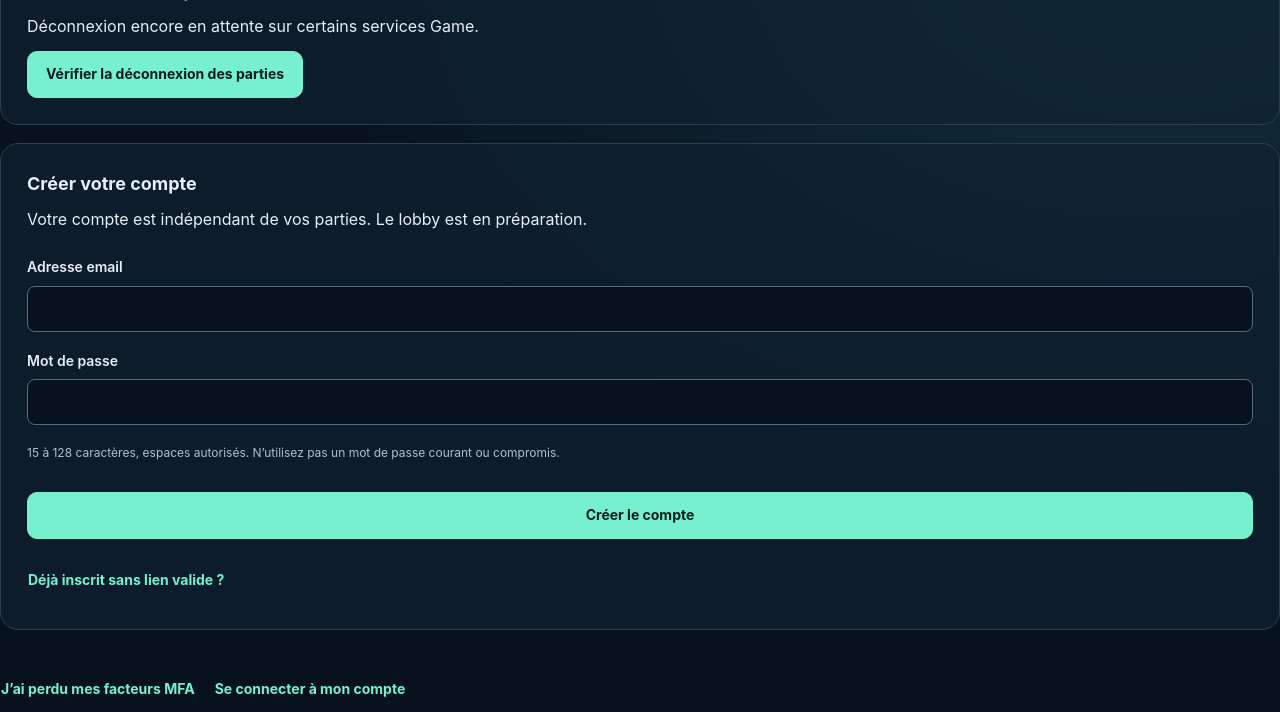
it: a normal login drops the previous revocation receipt status from the screen
(page scrolled)
Expected: the text "Déconnexion encore en attente sur certains services Game." is shown, [27, 16, 479, 36]
Click the button "Se connecter à mon compte" at (319, 689), box [214, 666, 424, 711]
(page scrolled)
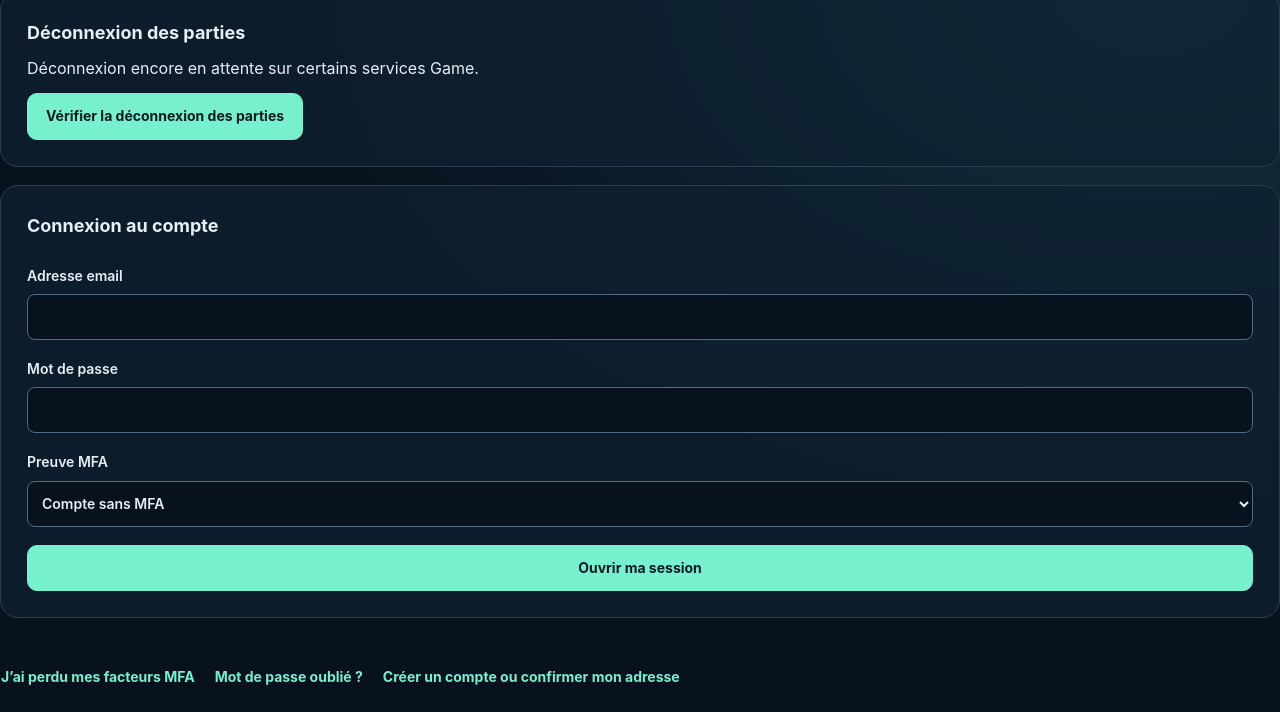
Type "player@example.org" into the field labelled "Adresse email" at (640, 317), box [27, 294, 1253, 340]
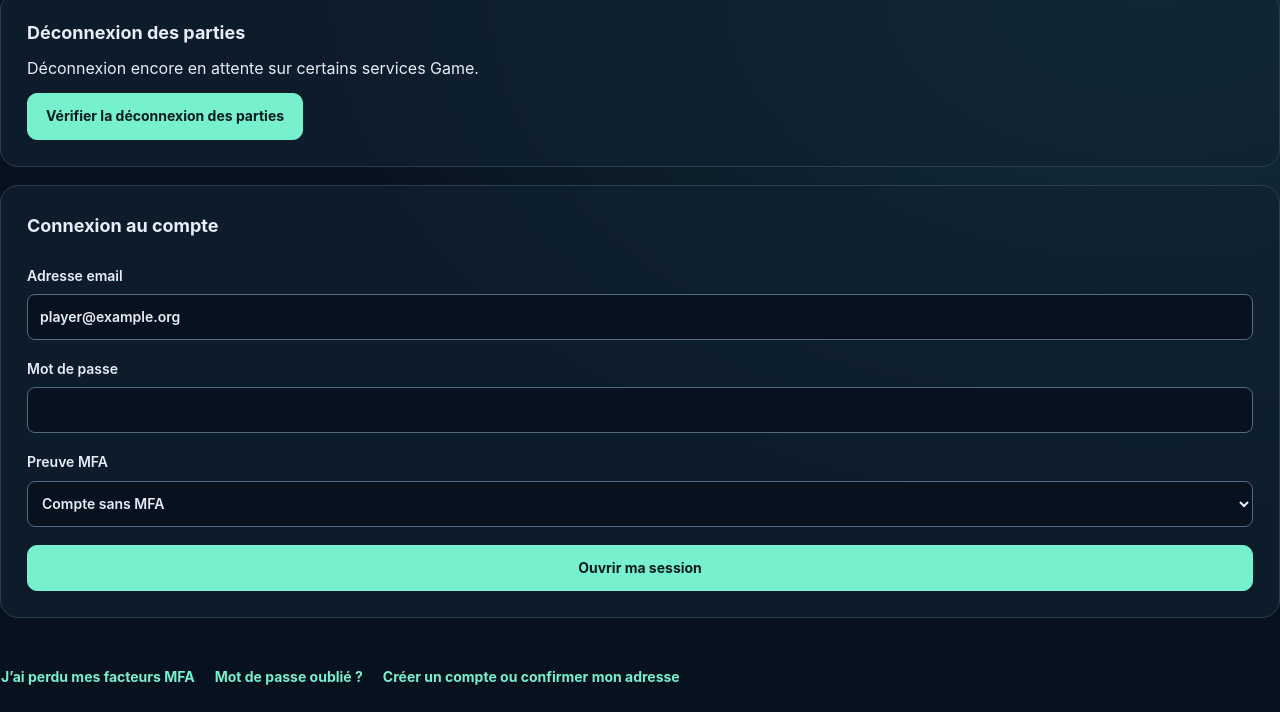
Type "Test password for C03 !" into the password field labelled "Mot de passe" at (640, 410), box [27, 387, 1253, 433]
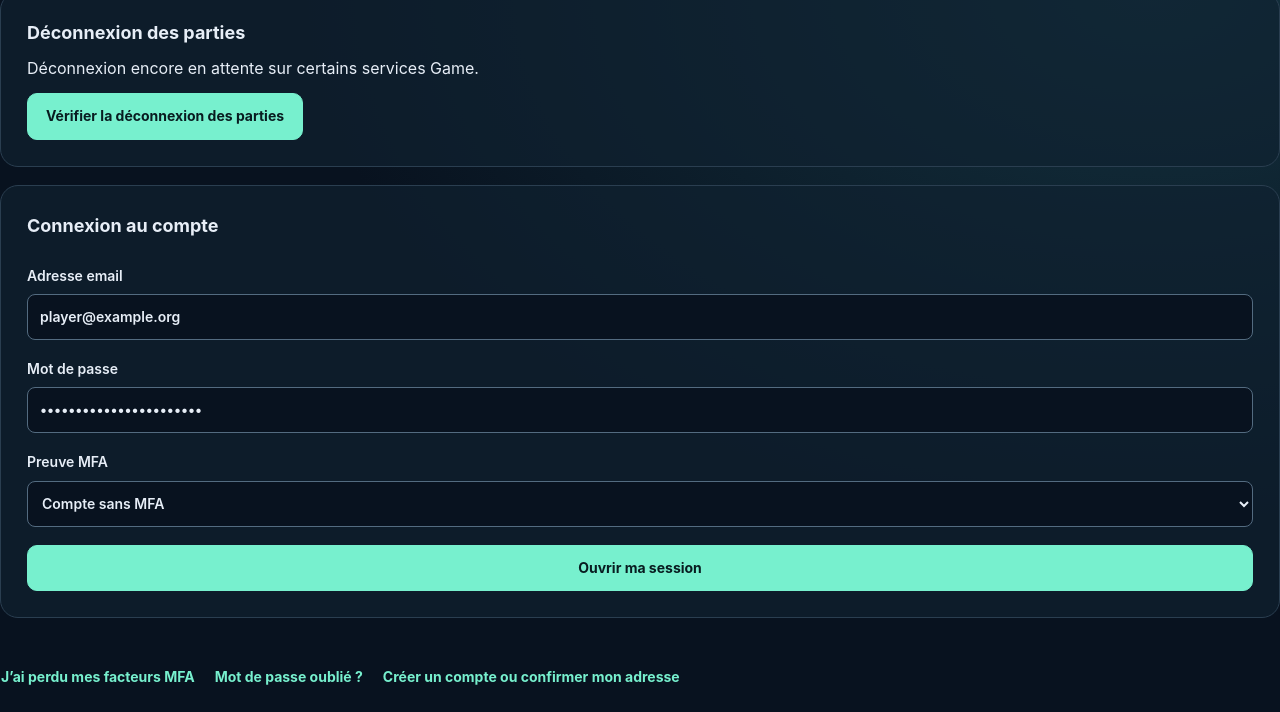
Click the button "Ouvrir ma session" at (640, 568), box [27, 545, 1253, 591]
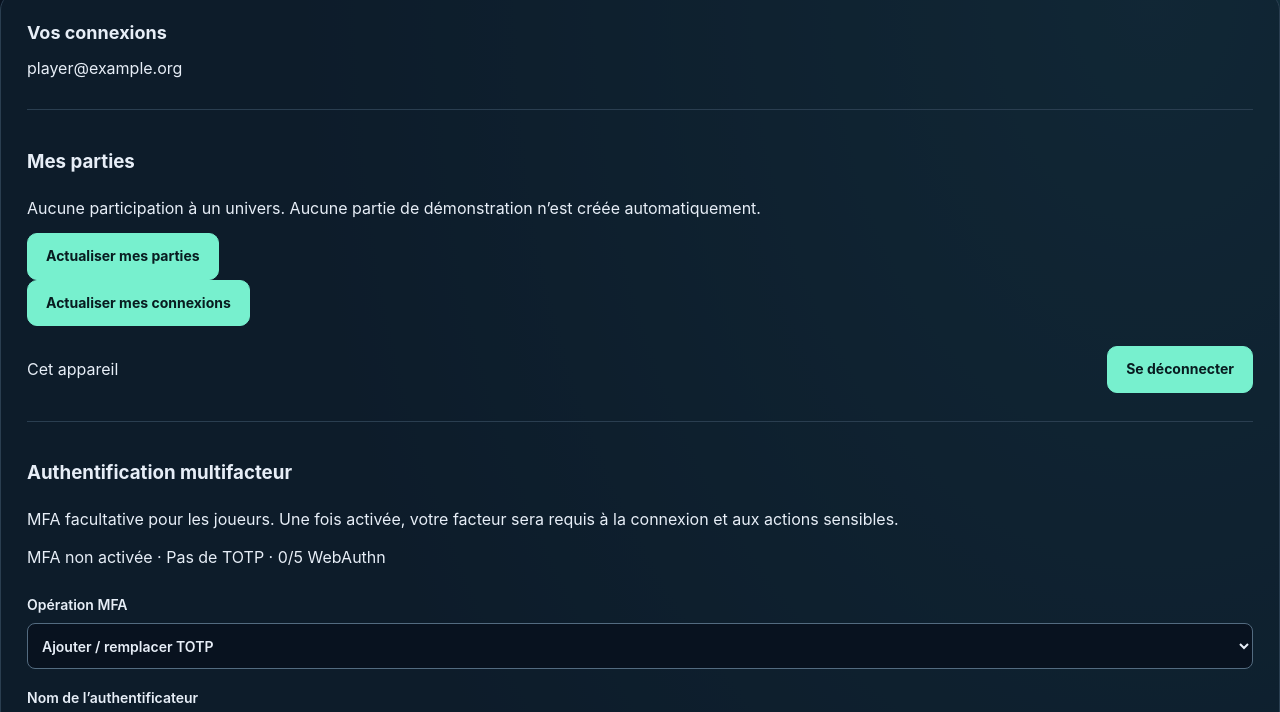
Now the text "player@example.org" is shown, box [27, 58, 182, 78]
Now the text "Déconnexion encore en attente sur certains services Game." is gone
